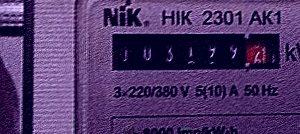0: (141, 43, 152, 62), (118, 43, 127, 61)
1: (185, 40, 194, 58)
3: (163, 43, 173, 63)
6: (251, 49, 261, 63)
9: (206, 39, 216, 60), (228, 42, 238, 60)
screen: (103, 22, 286, 78)
